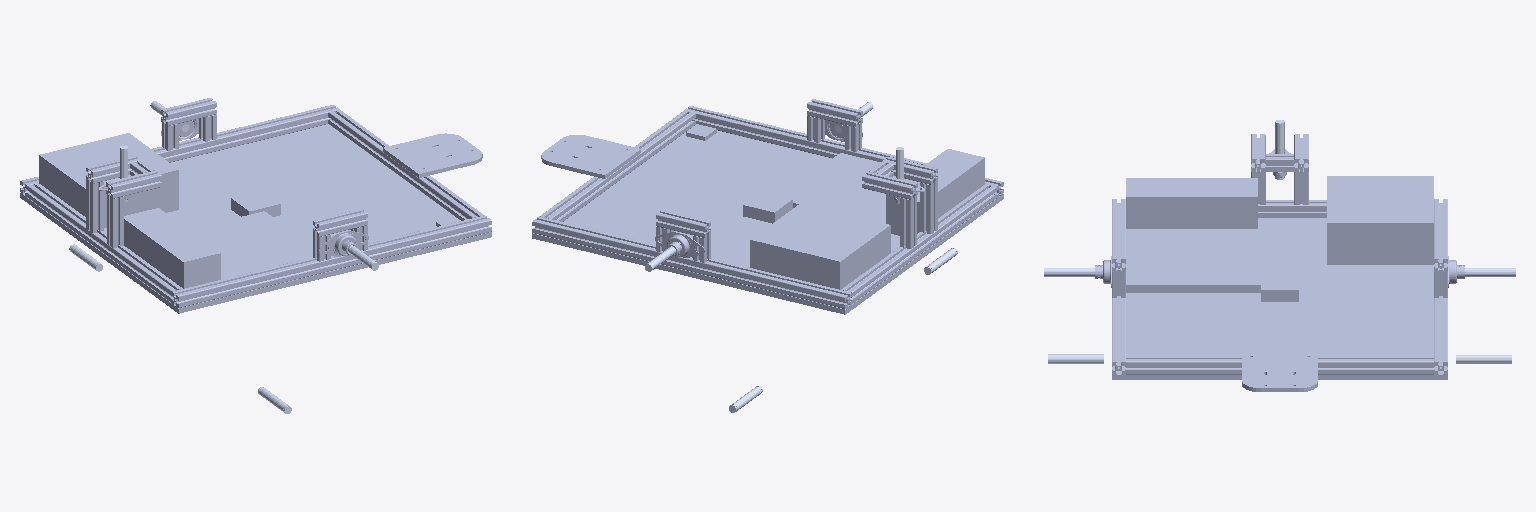
The robot description file, URDF, robot "UpdatedMiniRoverV8":
<?xml version="1.0" encoding="utf-8"?>
<!-- This URDF was automatically created by SolidWorks to URDF Exporter! Originally created by Stephen Brawner (brawner@gmail.com) 
     Commit Version: 1.6.0-4-g7f85cfe  Build Version: 1.6.7995.38578
     For more information, please see http://wiki.ros.org/sw_urdf_exporter -->
<robot
  name="UpdatedMiniRoverV8">
  <link
    name="base_link">
    <inertial>
      <origin
        xyz="-0.052189 0.0067678 0.012927"
        rpy="0 0 0" />
      <mass
        value="2.9852" />
      <inertia
        ixx="0.014337"
        ixy="-1.1922E-08"
        ixz="7.3459E-09"
        iyy="0.019036"
        iyz="-4.2142E-09"
        izz="0.032935" />
    </inertial>
    <visual>
      <origin
        xyz="0 0 0"
        rpy="0 0 0" />
      <geometry>
        <mesh
          filename="package://UpdatedMiniRoverV8/meshes/base_link.STL" />
      </geometry>
      <material
        name="">
        <color
          rgba="0.79216 0.81961 0.93333 1" />
      </material>
    </visual>
    <collision>
      <origin
        xyz="0 0 0"
        rpy="0 0 0" />
      <geometry>
        <mesh
          filename="package://UpdatedMiniRoverV8/meshes/base_link.STL" />
      </geometry>
    </collision>
  </link>
  <link
    name="RockerL_Link">
    <inertial>
      <origin
        xyz="0.050587 -0.035481 -0.055476"
        rpy="0 0 0" />
      <mass
        value="0.3332" />
      <inertia
        ixx="0.00034687"
        ixy="1.649E-08"
        ixz="0.00043675"
        iyy="0.0043799"
        iyz="2.7179E-08"
        izz="0.0040611" />
    </inertial>
    <visual>
      <origin
        xyz="0 0 0"
        rpy="0 0 0" />
      <geometry>
        <mesh
          filename="package://UpdatedMiniRoverV8/meshes/RockerL_Link.STL" />
      </geometry>
      <material
        name="">
        <color
          rgba="0.86667 0.9098 1 1" />
      </material>
    </visual>
    <collision>
      <origin
        xyz="0 0 0"
        rpy="0 0 0" />
      <geometry>
        <mesh
          filename="package://UpdatedMiniRoverV8/meshes/RockerL_Link.STL" />
      </geometry>
    </collision>
  </link>
  <joint
    name="RockerL_joint"
    type="revolute">
    <origin
      xyz="0.011312 -0.175 0.03"
      rpy="0 0 0" />
    <parent
      link="base_link" />
    <child
      link="RockerL_Link" />
    <axis
      xyz="0 1 0" />
    <limit
      lower="0"
      upper="0"
      effort="0"
      velocity="0" />
  </joint>
  <link
    name="WFL_Link">
    <inertial>
      <origin
        xyz="-1.6522E-06 0.05007 -2.3684E-07"
        rpy="0 0 0" />
      <mass
        value="0.56504" />
      <inertia
        ixx="0.00052671"
        ixy="-9.122E-08"
        ixz="-1.1343E-07"
        iyy="0.00065637"
        iyz="6.587E-08"
        izz="0.00052657" />
    </inertial>
    <visual>
      <origin
        xyz="0 0 0"
        rpy="0 0 0" />
      <geometry>
        <mesh
          filename="package://UpdatedMiniRoverV8/meshes/WFL_Link.STL" />
      </geometry>
      <material
        name="">
        <color
          rgba="0.79216 0.81961 0.93333 1" />
      </material>
    </visual>
    <collision>
      <origin
        xyz="0 0 0"
        rpy="0 0 0" />
      <geometry>
        <mesh
          filename="package://UpdatedMiniRoverV8/meshes/WFL_Link.STL" />
      </geometry>
    </collision>
  </link>
  <joint
    name="WFL_joint"
    type="continuous">
    <origin
      xyz="0.30516 -0.10151 -0.10318"
      rpy="0 0 0" />
    <parent
      link="RockerL_Link" />
    <child
      link="WFL_Link" />
    <axis
      xyz="0 1 0" />
  </joint>
  <link
    name="BogieL_Link">
    <inertial>
      <origin
        xyz="-0.00822356220886178 -0.029139189435147 -0.0382200373029564"
        rpy="0 0 0" />
      <mass
        value="0.0702980115336159" />
      <inertia
        ixx="7.20703134768663E-05"
        ixy="-1.97219359884655E-19"
        ixz="8.92310196044317E-05"
        iyy="0.000532837466498414"
        iyz="8.88054668303088E-21"
        izz="0.000467419083063315" />
    </inertial>
    <visual>
      <origin
        xyz="0 0 0"
        rpy="0 0 0" />
      <geometry>
        <mesh
          filename="package://UpdatedMiniRoverV8/meshes/BogieL_Link.STL" />
      </geometry>
      <material
        name="">
        <color
          rgba="0.866666666666667 0.909803921568627 1 1" />
      </material>
    </visual>
    <collision>
      <origin
        xyz="0 0 0"
        rpy="0 0 0" />
      <geometry>
        <mesh
          filename="package://UpdatedMiniRoverV8/meshes/BogieL_Link.STL" />
      </geometry>
    </collision>
  </link>
  <joint
    name="BogieL_joint"
    type="revolute">
    <origin
      xyz="-0.1098 -0.007669 -0.15093"
      rpy="0 0 0" />
    <parent
      link="RockerL_Link" />
    <child
      link="BogieL_Link" />
    <axis
      xyz="0 1 0" />
    <limit
      lower="0"
      upper="0"
      effort="0"
      velocity="0" />
  </joint>
  <link
    name="WML_Link">
    <inertial>
      <origin
        xyz="-1.6522E-06 0.05007 -2.3684E-07"
        rpy="0 0 0" />
      <mass
        value="0.56504" />
      <inertia
        ixx="0.00052671"
        ixy="-9.122E-08"
        ixz="-1.1343E-07"
        iyy="0.00065637"
        iyz="6.587E-08"
        izz="0.00052657" />
    </inertial>
    <visual>
      <origin
        xyz="0 0 0"
        rpy="0 0 0" />
      <geometry>
        <mesh
          filename="package://UpdatedMiniRoverV8/meshes/WML_Link.STL" />
      </geometry>
      <material
        name="">
        <color
          rgba="0.79216 0.81961 0.93333 1" />
      </material>
    </visual>
    <collision>
      <origin
        xyz="0 0 0"
        rpy="0 0 0" />
      <geometry>
        <mesh
          filename="package://UpdatedMiniRoverV8/meshes/WML_Link.STL" />
      </geometry>
    </collision>
  </link>
  <joint
    name="WML_joint"
    type="continuous">
    <origin
      xyz="0.11074 -0.093845 -0.1033"
      rpy="0 0 0" />
    <parent
      link="BogieL_Link" />
    <child
      link="WML_Link" />
    <axis
      xyz="0 1 0" />
  </joint>
  <link
    name="WBL_Link">
    <inertial>
      <origin
        xyz="-1.65221014791772E-06 0.0500702077423368 -2.36837870010165E-07"
        rpy="0 0 0" />
      <mass
        value="0.565040594888235" />
      <inertia
        ixx="0.000526714406222585"
        ixy="-9.1219621605056E-08"
        ixz="-1.13433191688736E-07"
        iyy="0.000656365395809676"
        iyz="6.58704120596969E-08"
        izz="0.000526572989890173" />
    </inertial>
    <visual>
      <origin
        xyz="0 0 0"
        rpy="0 0 0" />
      <geometry>
        <mesh
          filename="package://UpdatedMiniRoverV8/meshes/WBL_Link.STL" />
      </geometry>
      <material
        name="">
        <color
          rgba="0.792156862745098 0.819607843137255 0.933333333333333 1" />
      </material>
    </visual>
    <collision>
      <origin
        xyz="0 0 0"
        rpy="0 0 0" />
      <geometry>
        <mesh
          filename="package://UpdatedMiniRoverV8/meshes/WBL_Link.STL" />
      </geometry>
    </collision>
  </link>
  <joint
    name="WBL_joint"
    type="continuous">
    <origin
      xyz="-0.14343 -0.093845 -0.048586"
      rpy="0 0 0" />
    <parent
      link="BogieL_Link" />
    <child
      link="WBL_Link" />
    <axis
      xyz="0 1 0" />
  </joint>
  <link
    name="RockerR_Link">
    <inertial>
      <origin
        xyz="0.049722 0.035469 -0.056738"
        rpy="0 0 0" />
      <mass
        value="0.3332" />
      <inertia
        ixx="0.00037047"
        ixy="1.1846E-08"
        ixz="0.00052743"
        iyy="0.0043799"
        iyz="2.95E-08"
        izz="0.0040375" />
    </inertial>
    <visual>
      <origin
        xyz="0 0 0"
        rpy="0 0 0" />
      <geometry>
        <mesh
          filename="package://UpdatedMiniRoverV8/meshes/RockerR_Link.STL" />
      </geometry>
      <material
        name="">
        <color
          rgba="0.86667 0.9098 1 1" />
      </material>
    </visual>
    <collision>
      <origin
        xyz="0 0 0"
        rpy="0 0 0" />
      <geometry>
        <mesh
          filename="package://UpdatedMiniRoverV8/meshes/RockerR_Link.STL" />
      </geometry>
    </collision>
  </link>
  <joint
    name="RockerR_joint"
    type="revolute">
    <origin
      xyz="0.011312 0.175 0.03"
      rpy="0 0 0" />
    <parent
      link="base_link" />
    <child
      link="RockerR_Link" />
    <axis
      xyz="0 1 0" />
    <limit
      lower="0"
      upper="0"
      effort="0"
      velocity="0" />
  </joint>
  <link
    name="WFR_Link">
    <inertial>
      <origin
        xyz="1.51271630784156E-06 -0.0500702077423439 7.05393330274751E-07"
        rpy="0 0 0" />
      <mass
        value="0.565040594888118" />
      <inertia
        ixx="0.000526570192540395"
        ixy="-4.03388131450316E-08"
        ixz="1.10857187516814E-07"
        iyy="0.00065636539580952"
        iyz="-1.0503671122421E-07"
        izz="0.000526717203572179" />
    </inertial>
    <visual>
      <origin
        xyz="0 0 0"
        rpy="0 0 0" />
      <geometry>
        <mesh
          filename="package://UpdatedMiniRoverV8/meshes/WFR_Link.STL" />
      </geometry>
      <material
        name="">
        <color
          rgba="0.792156862745098 0.819607843137255 0.933333333333333 1" />
      </material>
    </visual>
    <collision>
      <origin
        xyz="0 0 0"
        rpy="0 0 0" />
      <geometry>
        <mesh
          filename="package://UpdatedMiniRoverV8/meshes/WFR_Link.STL" />
      </geometry>
    </collision>
  </link>
  <joint
    name="WFR_joint"
    type="continuous">
    <origin
      xyz="0.30259 0.10151 -0.11049"
      rpy="0 0 0" />
    <parent
      link="RockerR_Link" />
    <child
      link="WFR_Link" />
    <axis
      xyz="0 1 0" />
  </joint>
  <link
    name="BogieR_Link">
    <inertial>
      <origin
        xyz="-0.00026789 0.029131 -0.039094"
        rpy="0 0 0" />
      <mass
        value="0.070298" />
      <inertia
        ixx="5.2885E-05"
        ixy="-5.2376E-20"
        ixz="3.0061E-06"
        iyy="0.00053284"
        iyz="1.8862E-20"
        izz="0.0004866" />
    </inertial>
    <visual>
      <origin
        xyz="0 0 0"
        rpy="0 0 0" />
      <geometry>
        <mesh
          filename="package://UpdatedMiniRoverV8/meshes/BogieR_Link.STL" />
      </geometry>
      <material
        name="">
        <color
          rgba="0.86667 0.9098 1 1" />
      </material>
    </visual>
    <collision>
      <origin
        xyz="0 0 0"
        rpy="0 0 0" />
      <geometry>
        <mesh
          filename="package://UpdatedMiniRoverV8/meshes/BogieR_Link.STL" />
      </geometry>
    </collision>
  </link>
  <joint
    name="BogieR_joint"
    type="revolute">
    <origin
      xyz="-0.10561 0.007669 -0.14922"
      rpy="0 0 0" />
    <parent
      link="RockerR_Link" />
    <child
      link="BogieR_Link" />
    <axis
      xyz="0 1 0" />
    <limit
      lower="0"
      upper="0"
      effort="0"
      velocity="0" />
  </joint>
  <link
    name="WMR_Link">
    <inertial>
      <origin
        xyz="1.5127E-06 -0.05007 7.0539E-07"
        rpy="0 0 0" />
      <mass
        value="0.56504" />
      <inertia
        ixx="0.00052657"
        ixy="-4.0339E-08"
        ixz="1.1086E-07"
        iyy="0.00065637"
        iyz="-1.0504E-07"
        izz="0.00052672" />
    </inertial>
    <visual>
      <origin
        xyz="0 0 0"
        rpy="0 0 0" />
      <geometry>
        <mesh
          filename="package://UpdatedMiniRoverV8/meshes/WMR_Link.STL" />
      </geometry>
      <material
        name="">
        <color
          rgba="0.79216 0.81961 0.93333 1" />
      </material>
    </visual>
    <collision>
      <origin
        xyz="0 0 0"
        rpy="0 0 0" />
      <geometry>
        <mesh
          filename="package://UpdatedMiniRoverV8/meshes/WMR_Link.STL" />
      </geometry>
    </collision>
  </link>
  <joint
    name="WMR_joint"
    type="continuous">
    <origin
      xyz="0.12946 0.093845 -0.078578"
      rpy="0 0 0" />
    <parent
      link="BogieR_Link" />
    <child
      link="WMR_Link" />
    <axis
      xyz="0 1 0" />
  </joint>
  <link
    name="WBR_Link">
    <inertial>
      <origin
        xyz="1.5117E-06 -0.05007 7.0398E-07"
        rpy="0 0 0" />
      <mass
        value="0.56504" />
      <inertia
        ixx="0.00052657"
        ixy="-4.0339E-08"
        ixz="1.1084E-07"
        iyy="0.00065637"
        iyz="-1.0504E-07"
        izz="0.00052672" />
    </inertial>
    <visual>
      <origin
        xyz="0 0 0"
        rpy="0 0 0" />
      <geometry>
        <mesh
          filename="package://UpdatedMiniRoverV8/meshes/WBR_Link.STL" />
      </geometry>
      <material
        name="">
        <color
          rgba="0.79216 0.81961 0.93333 1" />
      </material>
    </visual>
    <collision>
      <origin
        xyz="0 0 0"
        rpy="0 0 0" />
      <geometry>
        <mesh
          filename="package://UpdatedMiniRoverV8/meshes/WBR_Link.STL" />
      </geometry>
    </collision>
  </link>
  <joint
    name="WBR_joint"
    type="continuous">
    <origin
      xyz="-0.13053 0.093845 -0.076778"
      rpy="0 0 0" />
    <parent
      link="BogieR_Link" />
    <child
      link="WBR_Link" />
    <axis
      xyz="0 1 0" />
  </joint>
  <link
    name="Differential_Link">
    <inertial>
      <origin
        xyz="5.0208E-07 2.8016E-07 0.044658"
        rpy="0 0 0" />
      <mass
        value="0.49598" />
      <inertia
        ixx="0.0065993"
        ixy="-0.00019432"
        ixz="7.4724E-09"
        iyy="0.00031286"
        iyz="3.9855E-09"
        izz="0.0068992" />
    </inertial>
    <visual>
      <origin
        xyz="0 0 0"
        rpy="0 0 0" />
      <geometry>
        <mesh
          filename="package://UpdatedMiniRoverV8/meshes/Differential_Link.STL" />
      </geometry>
      <material
        name="">
        <color
          rgba="0.86667 0.9098 1 1" />
      </material>
    </visual>
    <collision>
      <origin
        xyz="0 0 0"
        rpy="0 0 0" />
      <geometry>
        <mesh
          filename="package://UpdatedMiniRoverV8/meshes/Differential_Link.STL" />
      </geometry>
    </collision>
  </link>
  <joint
    name="Differential_joint"
    type="revolute">
    <origin
      xyz="-0.16869 0 0.053808"
      rpy="0 0 0" />
    <parent
      link="base_link" />
    <child
      link="Differential_Link" />
    <axis
      xyz="0 0 1" />
    <limit
      lower="0"
      upper="0"
      effort="0"
      velocity="0" />
  </joint>
  <link
    name="LiDAR_Link">
    <inertial>
      <origin
        xyz="-0.000496605793485996 -5.38218054568773E-08 -0.0276950435927863"
        rpy="0 0 0" />
      <mass
        value="0.182867569545744" />
      <inertia
        ixx="9.71416474492634E-05"
        ixy="3.04723500696644E-10"
        ixz="6.62518701274272E-07"
        iyy="9.57887030791969E-05"
        iyz="3.16376323027782E-11"
        izz="8.5472627961037E-05" />
    </inertial>
    <visual>
      <origin
        xyz="0 0 0"
        rpy="0 0 0" />
      <geometry>
        <mesh
          filename="package://UpdatedMiniRoverV8/meshes/LiDAR_Link.STL" />
      </geometry>
      <material
        name="">
        <color
          rgba="1 1 1 0.35" />
      </material>
    </visual>
    <collision>
      <origin
        xyz="0 0 0"
        rpy="0 0 0" />
      <geometry>
        <mesh
          filename="package://UpdatedMiniRoverV8/meshes/LiDAR_Link.STL" />
      </geometry>
    </collision>
  </link>
  <joint
    name="LiDAR_joint"
    type="fixed">
    <origin
      xyz="0.253 0 0.08166"
      rpy="0 0 0" />
    <parent
      link="base_link" />
    <child
      link="LiDAR_Link" />
    <axis
      xyz="0 0 0" />
  </joint>
  <link
    name="IMU_Link">
    <inertial>
      <origin
        xyz="0 -2.2204E-16 -0.007"
        rpy="0 0 0" />
      <mass
        value="0.0224" />
      <inertia
        ixx="3.3525E-06"
        ixy="-9.1135E-23"
        ixz="-4.3713E-21"
        iyy="3.3525E-06"
        iyz="9.0907E-22"
        izz="5.9733E-06" />
    </inertial>
    <visual>
      <origin
        xyz="0 0 0"
        rpy="0 0 0" />
      <geometry>
        <mesh
          filename="package://UpdatedMiniRoverV8/meshes/IMU_Link.STL" />
      </geometry>
      <material
        name="">
        <color
          rgba="0.79216 0.81961 0.93333 1" />
      </material>
    </visual>
    <collision>
      <origin
        xyz="0 0 0"
        rpy="0 0 0" />
      <geometry>
        <mesh
          filename="package://UpdatedMiniRoverV8/meshes/IMU_Link.STL" />
      </geometry>
    </collision>
  </link>
  <joint
    name="IMU_joint"
    type="fixed">
    <origin
      xyz="0 0 0.014"
      rpy="0 0 0" />
    <parent
      link="base_link" />
    <child
      link="IMU_Link" />
    <axis
      xyz="0 0 0" />
  </joint>
  <link
    name="GPS1_Link">
    <inertial>
      <origin
        xyz="-1.6515E-15 -3.3307E-16 -0.019545"
        rpy="0 0 0" />
      <mass
        value="0.10424" />
      <inertia
        ixx="3.3117E-05"
        ixy="-8.2422E-20"
        ixz="1.2009E-20"
        iyy="6.8334E-05"
        iyz="-3.3951E-20"
        izz="9.0122E-05" />
    </inertial>
    <visual>
      <origin
        xyz="0 0 0"
        rpy="0 0 0" />
      <geometry>
        <mesh
          filename="package://UpdatedMiniRoverV8/meshes/GPS1_Link.STL" />
      </geometry>
      <material
        name="">
        <color
          rgba="0.79216 0.81961 0.93333 1" />
      </material>
    </visual>
    <collision>
      <origin
        xyz="0 0 0"
        rpy="0 0 0" />
      <geometry>
        <mesh
          filename="package://UpdatedMiniRoverV8/meshes/GPS1_Link.STL" />
      </geometry>
    </collision>
  </link>
  <joint
    name="GPS1_joint"
    type="fixed">
    <origin
      xyz="0.1285 0.13 0.03"
      rpy="0 0 0" />
    <parent
      link="base_link" />
    <child
      link="GPS1_Link" />
    <axis
      xyz="0 0 0" />
  </joint>
  <link
    name="GPS2_Link">
    <inertial>
      <origin
        xyz="5.55111512312578E-17 0 -0.00249999999999894"
        rpy="0 0 0" />
      <mass
        value="0.003125" />
      <inertia
        ixx="1.69270833333334E-07"
        ixy="-1.43894930680648E-22"
        ixz="-1.03576687527432E-22"
        iyy="1.69270833333333E-07"
        iyz="-4.17546722936064E-23"
        izz="3.25520833333334E-07" />
    </inertial>
    <visual>
      <origin
        xyz="0 0 0"
        rpy="0 0 0" />
      <geometry>
        <mesh
          filename="package://UpdatedMiniRoverV8/meshes/GPS2_Link.STL" />
      </geometry>
      <material
        name="">
        <color
          rgba="0.792156862745098 0.819607843137255 0.933333333333333 1" />
      </material>
    </visual>
    <collision>
      <origin
        xyz="0 0 0"
        rpy="0 0 0" />
      <geometry>
        <mesh
          filename="package://UpdatedMiniRoverV8/meshes/GPS2_Link.STL" />
      </geometry>
    </collision>
  </link>
  <joint
    name="GPS2_joint"
    type="fixed">
    <origin
      xyz="0.1675 -0.1425 0.005"
      rpy="0 0 0" />
    <parent
      link="base_link" />
    <child
      link="GPS2_Link" />
    <axis
      xyz="0 0 0" />
  </joint>
</robot>

--- Render facts (derived) ---
The picture shows the robot from 3 angles, left to right: view 1: azimuth 30°, elevation 25°; view 2: azimuth 150°, elevation 25°; view 3: azimuth 270°, elevation 25°; orthographic projection.
Model UpdatedMiniRoverV8 with 16 links and 15 joints (5 revolute, 6 continuous, 4 fixed), rooted at base_link, posed every joint at zero.
Links seen in each view (by area): view 1: base_link, IMU_Link; view 2: base_link, IMU_Link; view 3: base_link, IMU_Link, BogieL_Link.
Boxes of the visible links, x1=… form: base_link: x1=20, y1=98, x2=491, y2=313; IMU_Link: x1=231, y1=191, x2=280, y2=216; base_link: x1=532, y1=99, x2=1003, y2=314; IMU_Link: x1=743, y1=192, x2=792, y2=223; base_link: x1=1095, y1=134, x2=1464, y2=391; IMU_Link: x1=1261, y1=273, x2=1298, y2=301; BogieL_Link: x1=1048, y1=354, x2=1103, y2=363.
Size in the robot's own frame: 0.4754 by 0.49 by 0.2445 metres.
Meshes: 16 distinct files referenced, 8 mesh visuals loaded (8 binary STL); not drawn: 2 (reference not matched to a file when rendering), 6 (file found but could not be loaded).
